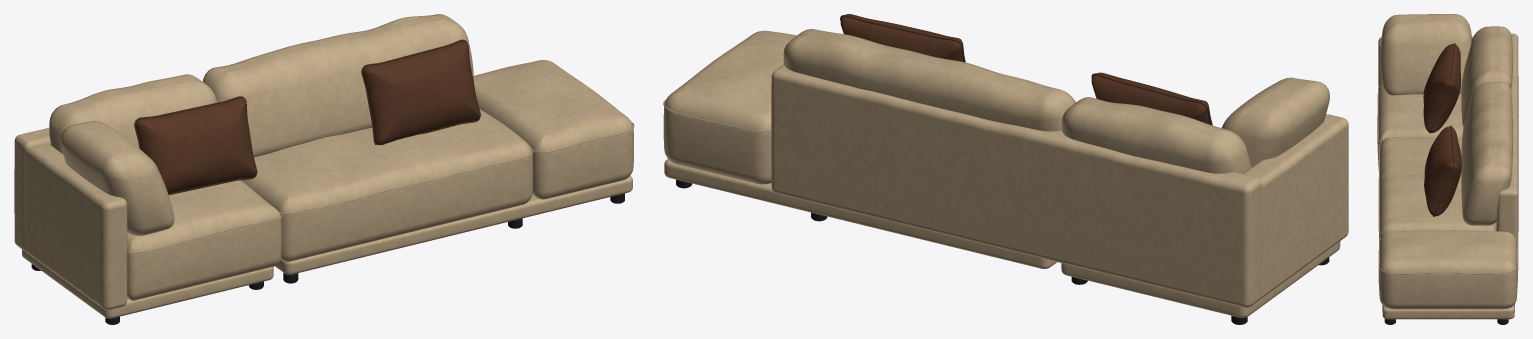
Rendered from straight.glb.
3 views of the same model, side by side, from view 1: azimuth 30°, elevation 25°; view 2: azimuth 150°, elevation 25°; view 3: azimuth 270°, elevation 25° (orthographic). The views are drawn at different scales.
Parts seen in each view (by area): view 1: fabric (×2), accent (×2), legs; view 2: fabric, accent (×2); view 3: fabric (×2), accent (×2), legs.
Part boxes in pixels (x1=…): fabric (×2): x1=14, y1=14, x2=634, y2=318; accent (×2): x1=134, y1=39, x2=480, y2=194; legs: x1=31, y1=193, x2=624, y2=324; fabric: x1=663, y1=29, x2=1348, y2=317; accent (×2): x1=840, y1=14, x2=1212, y2=125; fabric (×2): x1=1377, y1=14, x2=1518, y2=319; accent (×2): x1=1423, y1=43, x2=1461, y2=216; legs: x1=1384, y1=319, x2=1508, y2=324.
Size of the model in its own units: 3 by 0.8838 by 0.9032.
5 materials, 4 textured.
